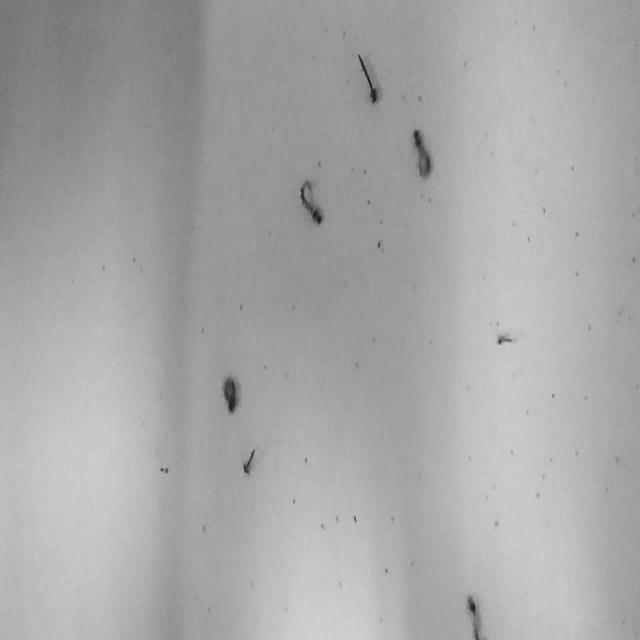larvas: (299, 178, 324, 225), (412, 126, 432, 179), (357, 52, 377, 102), (467, 592, 487, 639), (222, 375, 238, 413), (242, 444, 255, 474), (497, 332, 517, 344)
